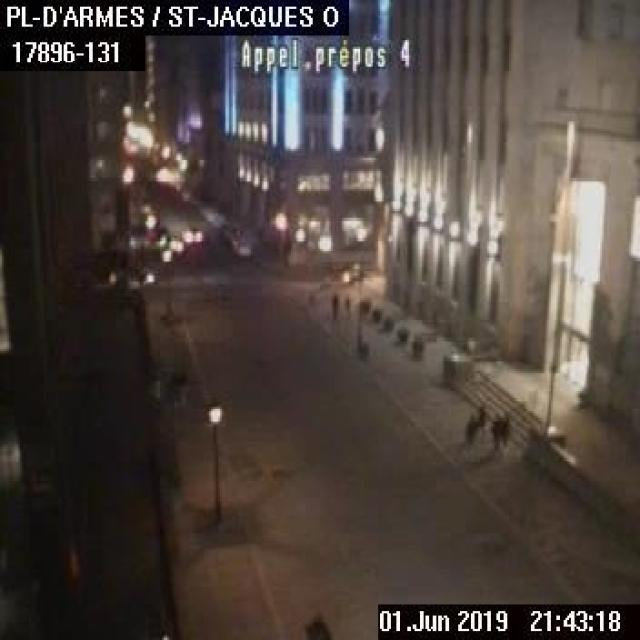pedestrian: (170, 364, 188, 407), (489, 414, 500, 452), (476, 401, 486, 439), (464, 412, 476, 442), (499, 413, 508, 446), (330, 293, 338, 319), (343, 294, 349, 316)
vehicle: (108, 263, 152, 284), (232, 238, 251, 258), (183, 225, 202, 243)
